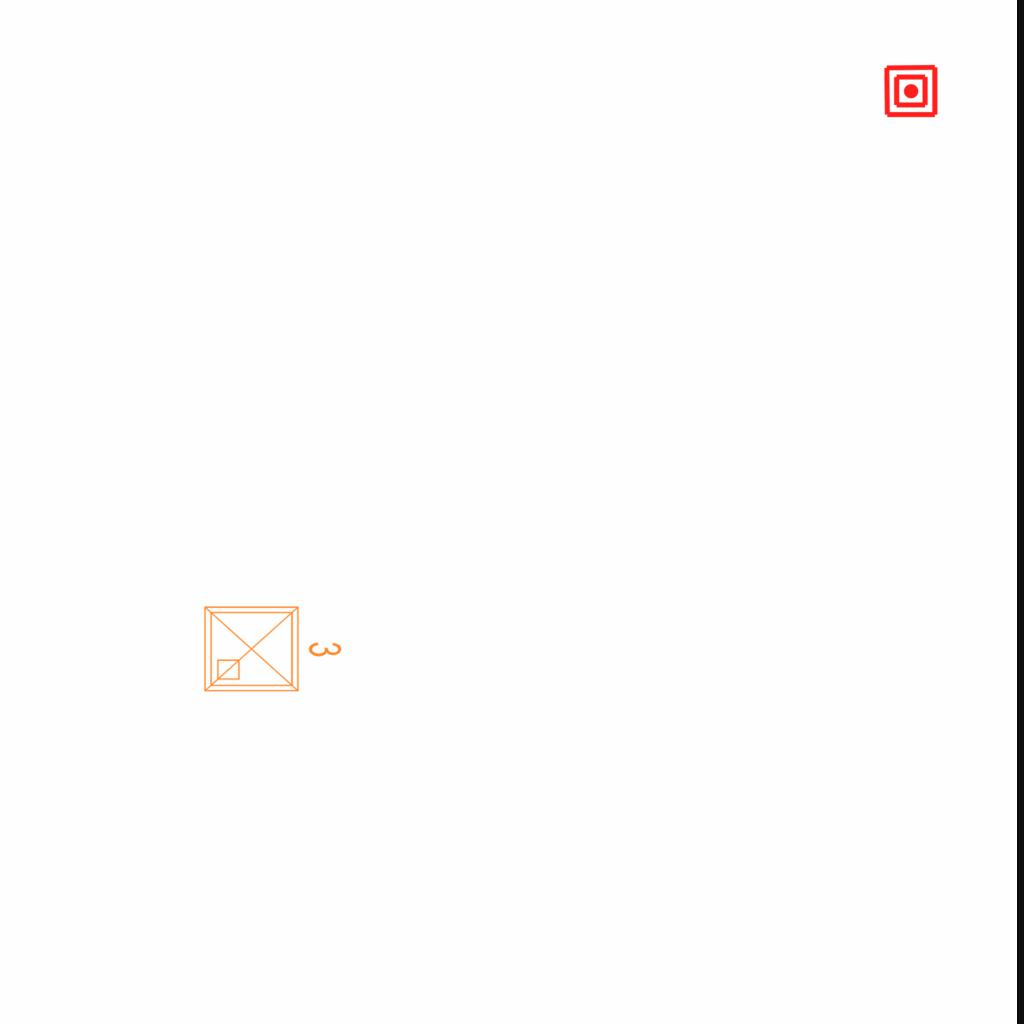Einbaudownlights_LED_Konferenzraeume: (197, 595, 347, 699)
NAM-Nichtautomatischer_Melder: (883, 63, 939, 119)
